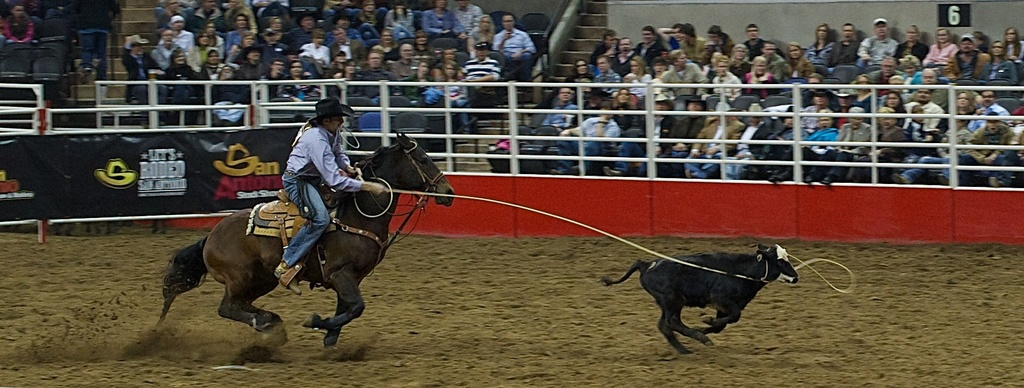horse: (156, 130, 454, 348)
